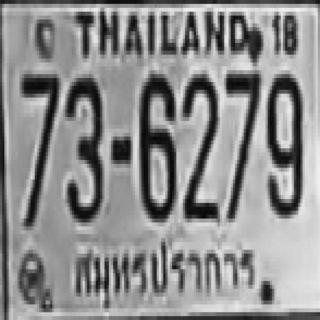N02: (182, 70, 217, 219)
N03: (64, 74, 101, 218)
N06: (137, 70, 174, 219)
N07: (21, 70, 58, 226), (224, 66, 259, 219)
N09: (267, 70, 301, 215)
P57: (73, 230, 259, 313)
